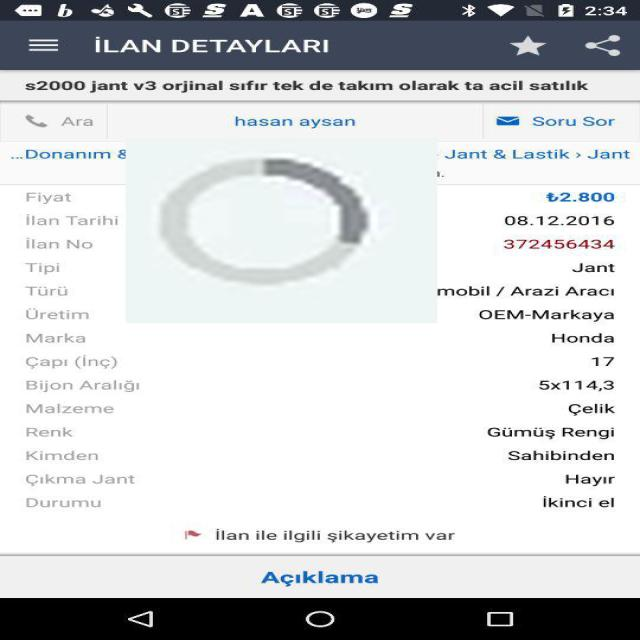misdirection: (126, 138, 437, 323)
